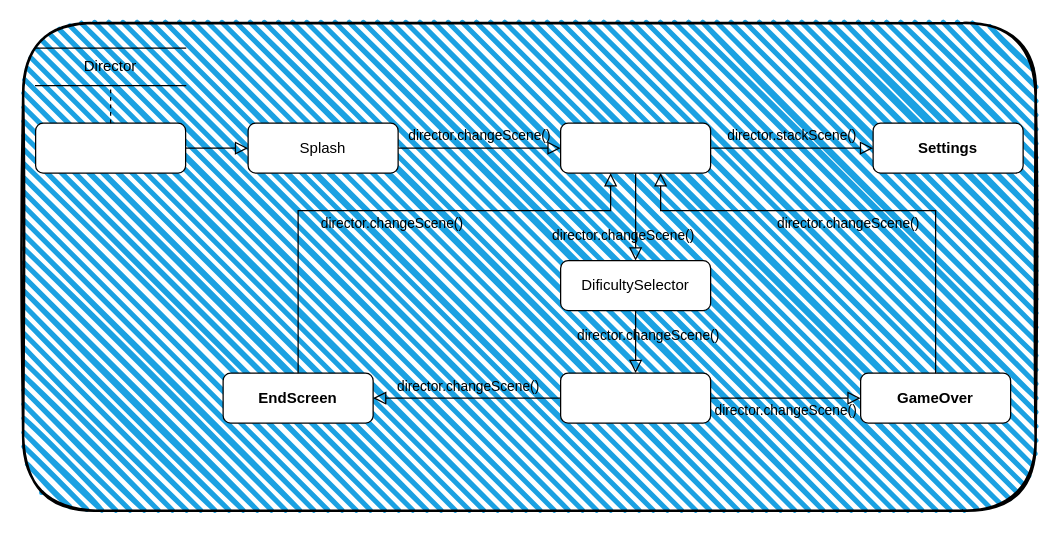
This 1058x533 diagram has some shape labels left out. The box of each missing label's shape, as (x1, y1, x2, y2) in pixels:
Game: (34, 122, 186, 173)
Levels: (559, 372, 711, 423)
Menu: (559, 122, 711, 173)
